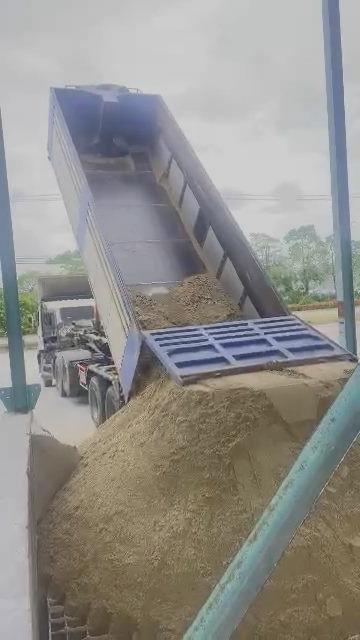sand: (41, 365, 347, 639), (234, 442, 360, 639), (130, 274, 241, 329), (28, 419, 80, 526), (133, 347, 162, 394)
